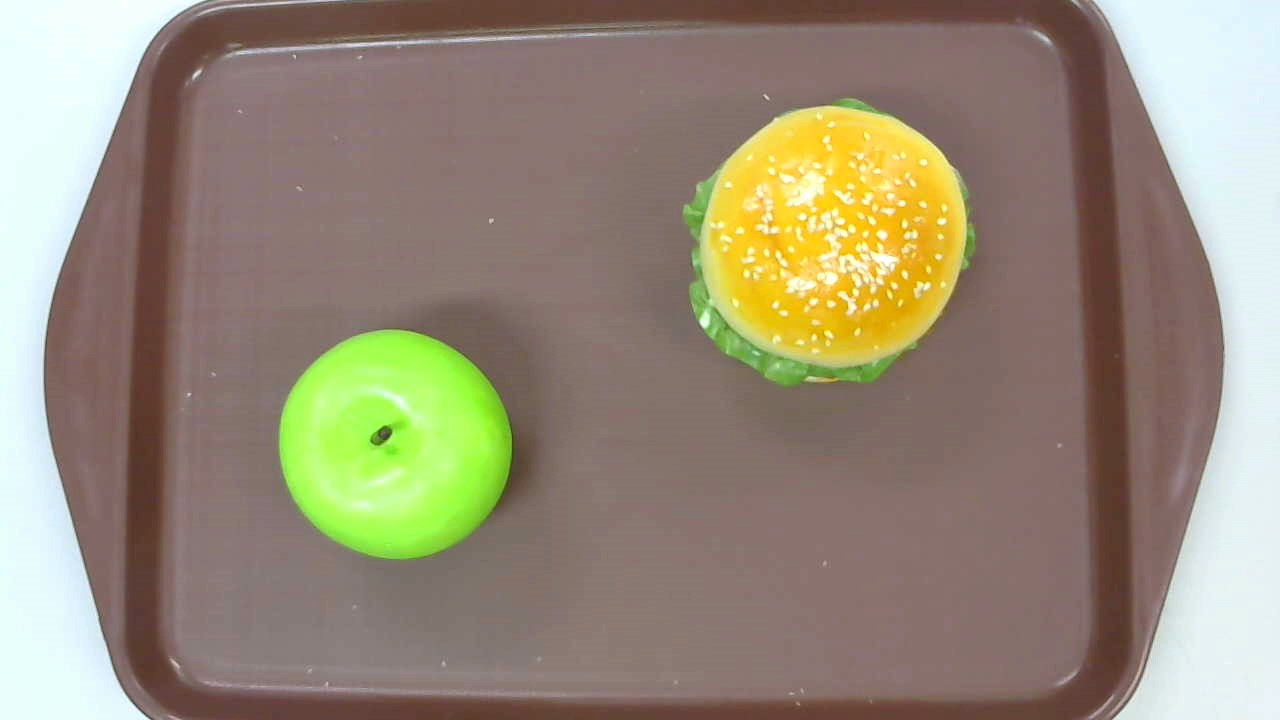green apple: (278, 328, 515, 562)
hamburger: (682, 99, 974, 386)
